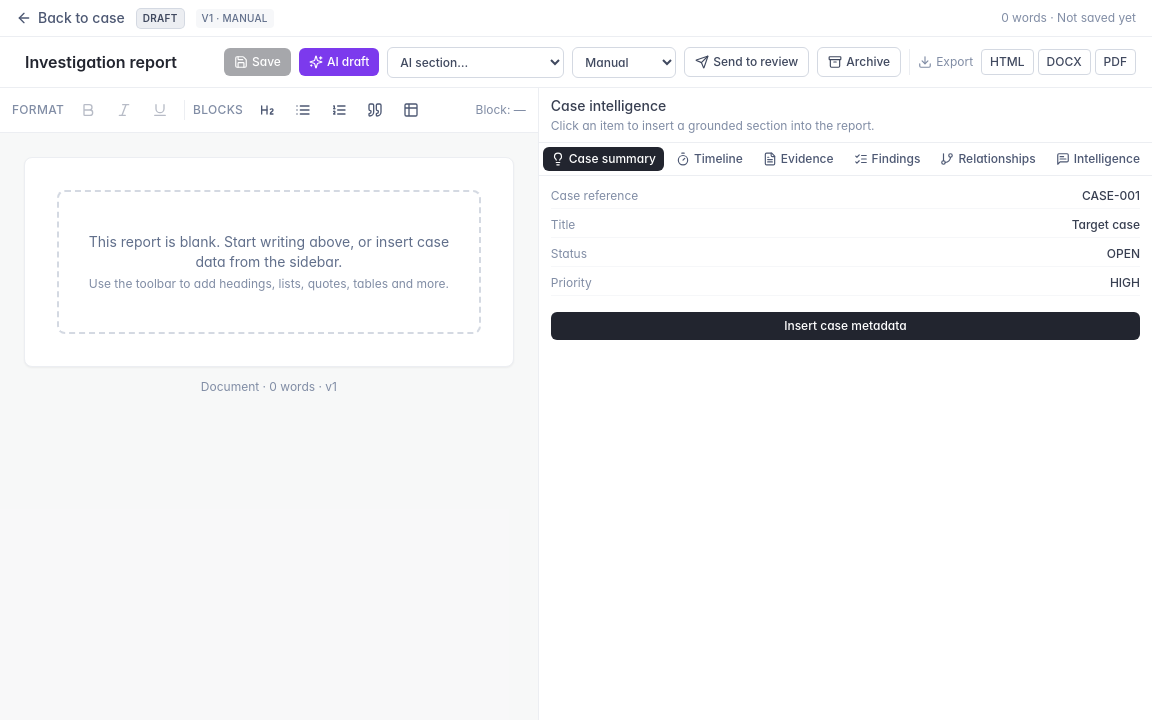
it: ReportsEditor › labels a human block with H provenance
This screenshot has width=1152, height=720.
Click the button titled "Heading". click: [267, 110]
box: [251,94,283,126]
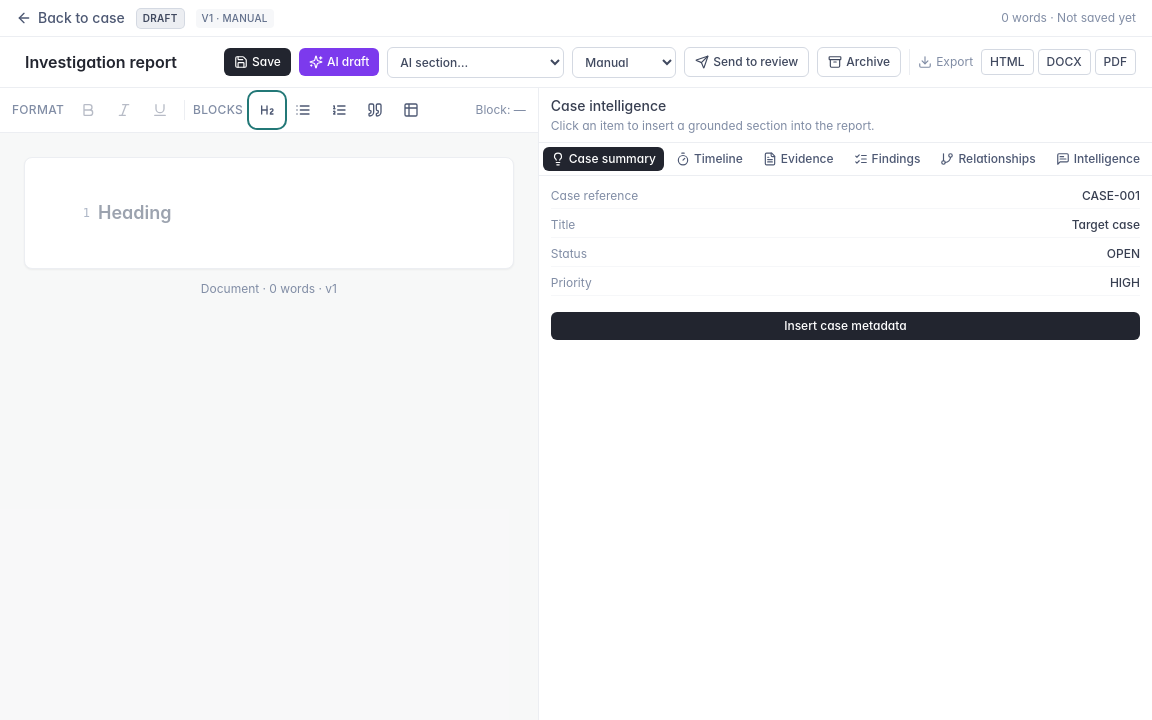
Type "Findings" into the field with placeholder "Heading". click: [285, 213]
box: [98,199,472,227]
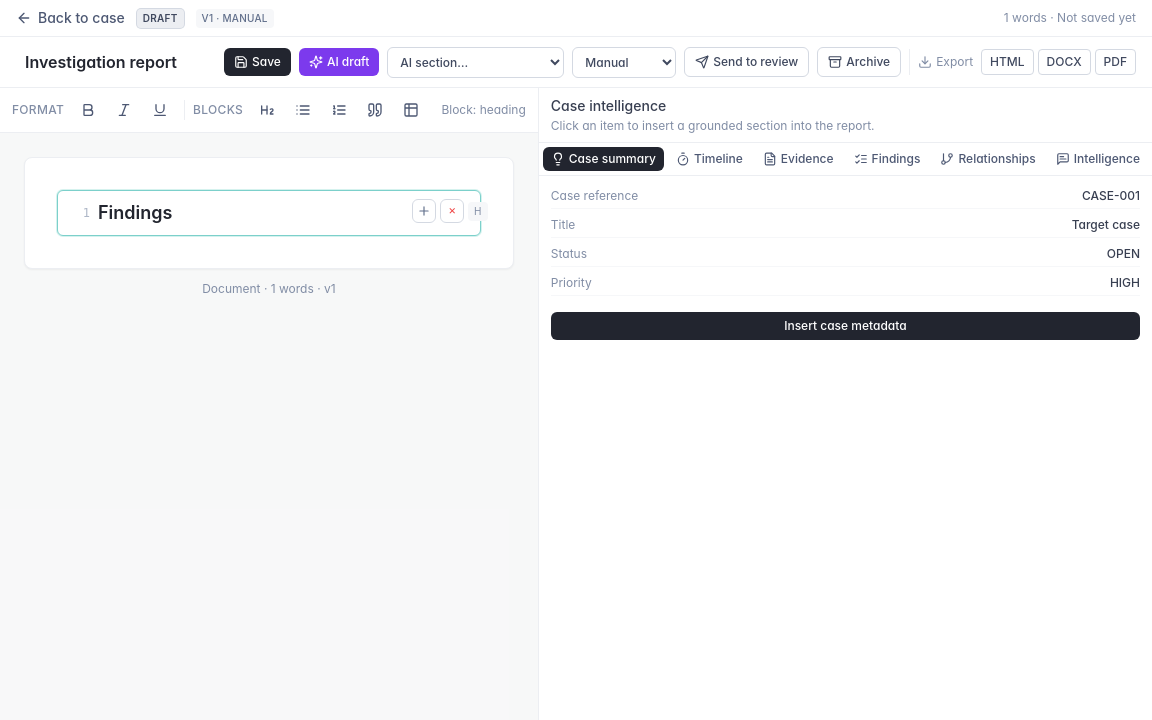
Expected: the text titled "Human authored" is shown, [474,204,482,216]
